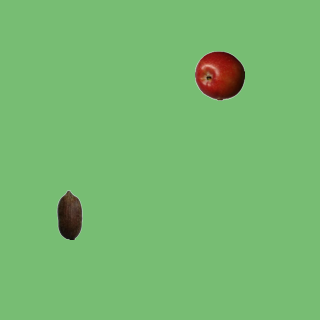Apple Braeburn: (194, 50, 244, 100)
Nut Pecan: (44, 189, 94, 239)
